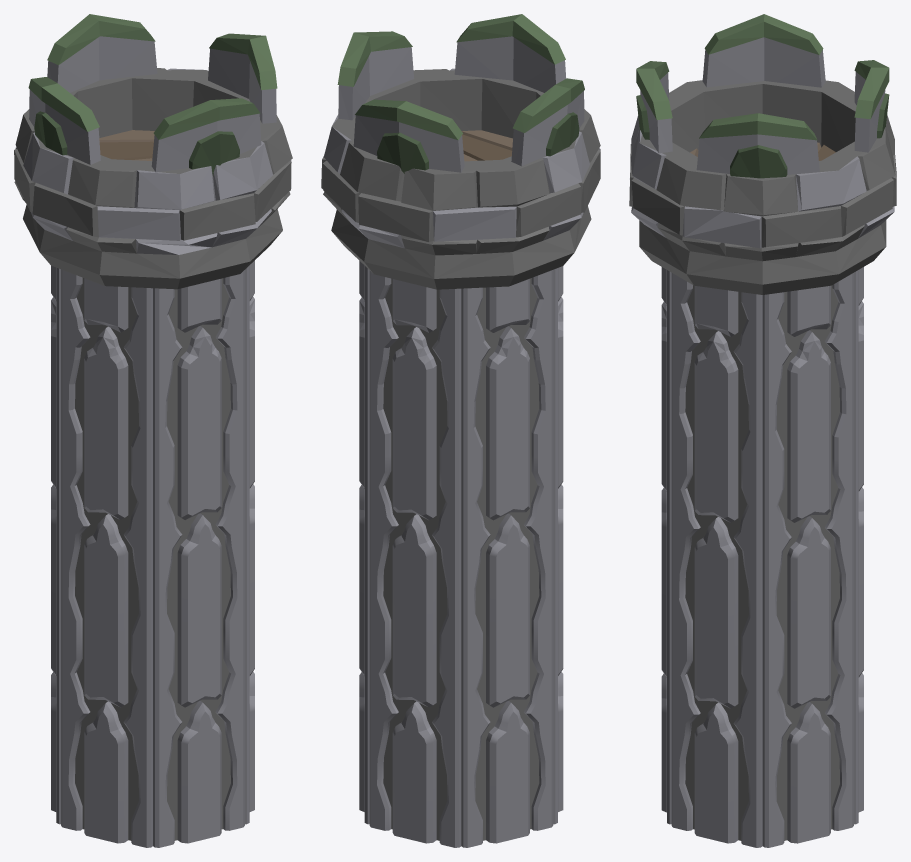
Rendered from tower_3_full.fbx.
3 views of the same model, side by side, from view 1: azimuth 30°, elevation 25°; view 2: azimuth 150°, elevation 25°; view 3: azimuth 270°, elevation 25° (orthographic).
Visible parts, largest first — view 1: TOWER_3_UP_1, TOWER_3_BASE_1, TOWER_3_BASE_2; view 2: TOWER_3_UP_1, TOWER_3_BASE_2, TOWER_3_BASE_1; view 3: TOWER_3_UP_1, TOWER_3_BASE_2, TOWER_3_BASE_1.
Boxes of the visible parts, x1=… form: TOWER_3_UP_1: x1=14, y1=14, x2=292, y2=472; TOWER_3_BASE_1: x1=51, y1=623, x2=254, y2=847; TOWER_3_BASE_2: x1=51, y1=435, x2=254, y2=660; TOWER_3_UP_1: x1=321, y1=14, x2=600, y2=473; TOWER_3_BASE_2: x1=359, y1=435, x2=563, y2=660; TOWER_3_BASE_1: x1=359, y1=623, x2=563, y2=847; TOWER_3_UP_1: x1=629, y1=14, x2=896, y2=476; TOWER_3_BASE_2: x1=661, y1=439, x2=863, y2=661; TOWER_3_BASE_1: x1=661, y1=624, x2=863, y2=847.
Size of the model in its own units: 459 by 1333 by 439.
